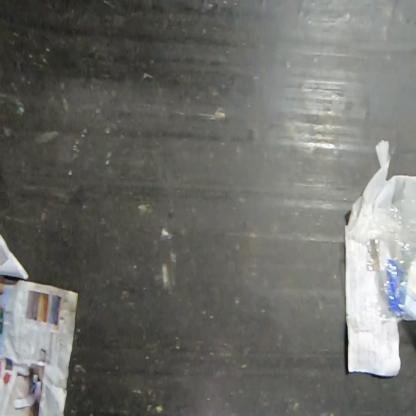soft_plastic: (352, 195, 415, 325)
